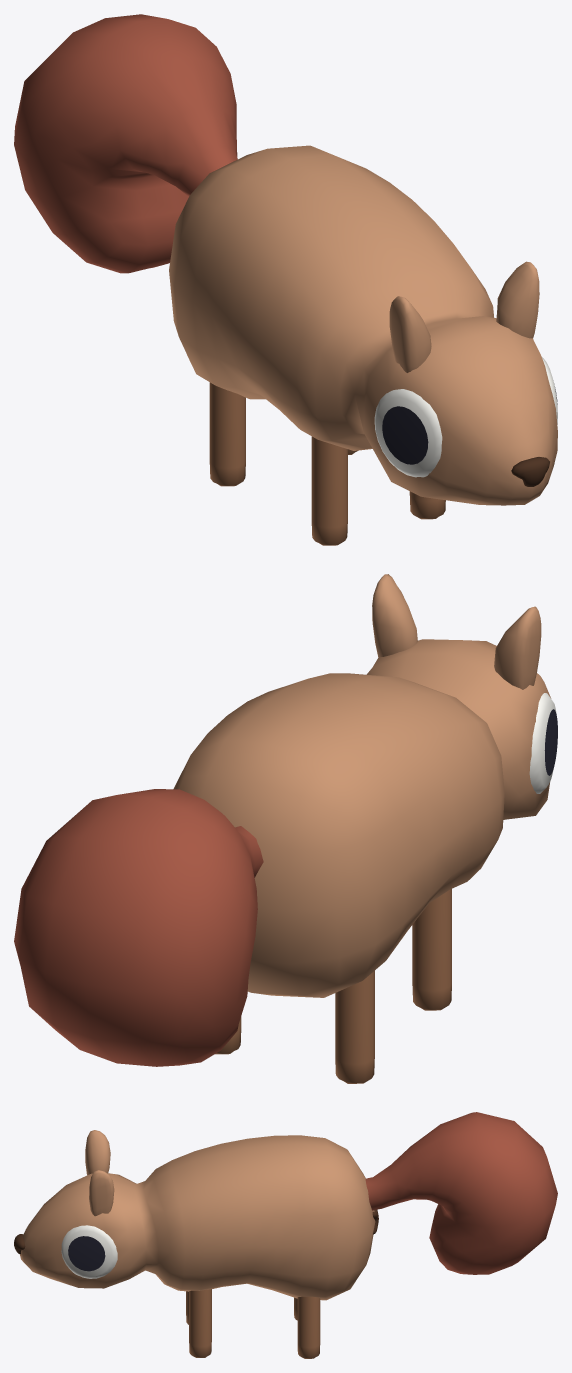
The model's file is Squirrel.glb.
3 views of the same model, one above another, from view 1: azimuth 30°, elevation 25°; view 2: azimuth 150°, elevation 25°; view 3: azimuth 270°, elevation 25° (orthographic). The views are drawn at different scales.
Visible parts, largest first — view 1: Squirrel; view 2: Squirrel; view 3: Squirrel.
Boxes of the visible parts, x1,y1,x2,y2 form: Squirrel: (14, 14, 557, 545); Squirrel: (14, 574, 557, 1083); Squirrel: (14, 1112, 557, 1358).
Bounding box in the file's own units: 0.8266 × 1.24 × 2.83.
1 material, 1 textured.
